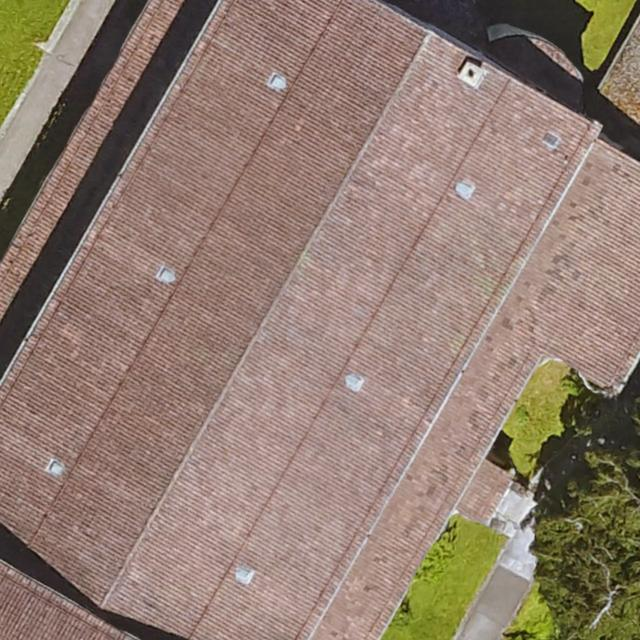tree: (538, 446, 640, 640)
